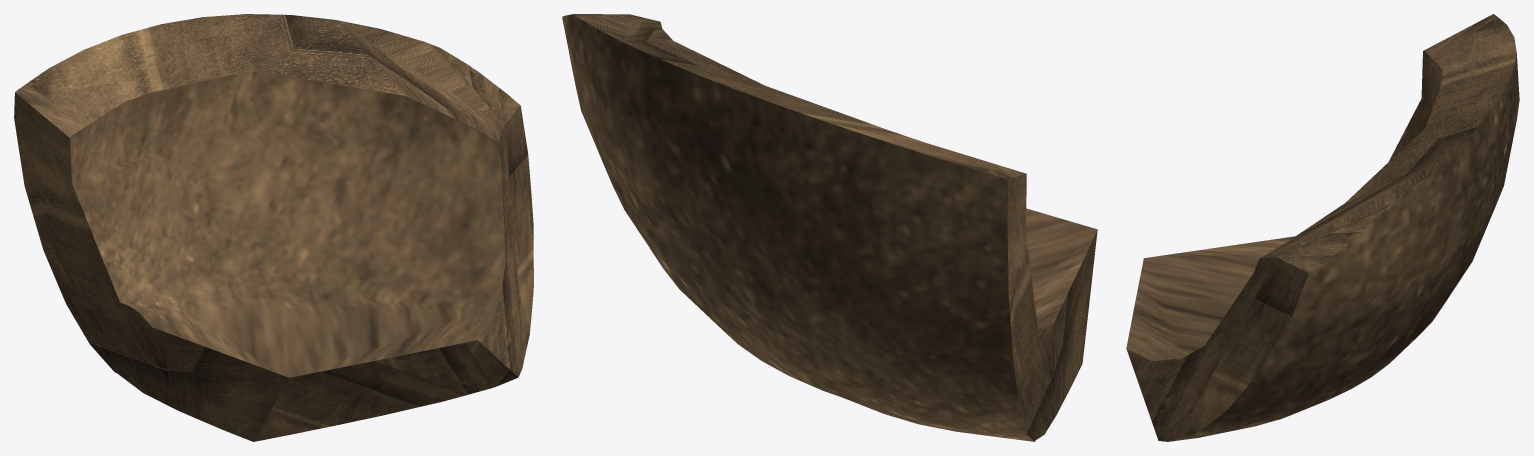
The picture shows the model from 3 angles, left to right: view 1: azimuth 30°, elevation 25°; view 2: azimuth 150°, elevation 25°; view 3: azimuth 270°, elevation 25°; orthographic projection. The views are drawn at different scales.
Visible parts, largest first — view 1: Cylinder_cell.009; view 2: Cylinder_cell.009; view 3: Cylinder_cell.009.
Boxes of the visible parts, bbox=[...] form: Cylinder_cell.009: bbox=[14, 14, 533, 441]; Cylinder_cell.009: bbox=[562, 14, 1097, 441]; Cylinder_cell.009: bbox=[1126, 14, 1519, 441].
Size of the model in its own units: 1.04 by 0.692 by 0.8319.
Materials: 1 (1 with a texture image).
